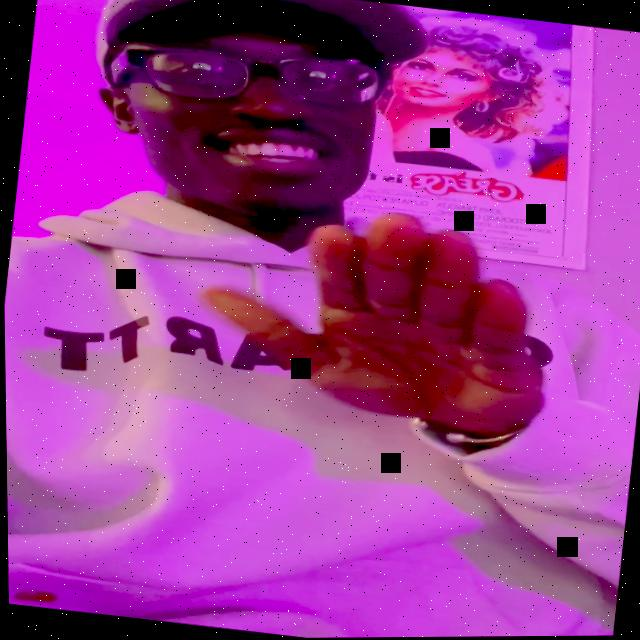Paper: (185, 187, 556, 443)
